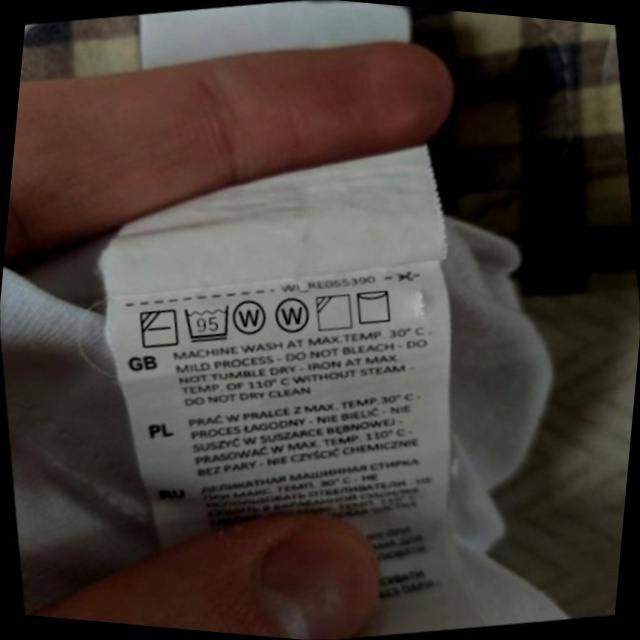95C: (176, 295, 239, 351)
dry_flat_in_shade: (131, 300, 186, 357)
line_dry: (348, 280, 401, 333)
shade_dry: (308, 285, 361, 339)
wet_clean: (267, 289, 318, 342), (226, 289, 276, 343)
